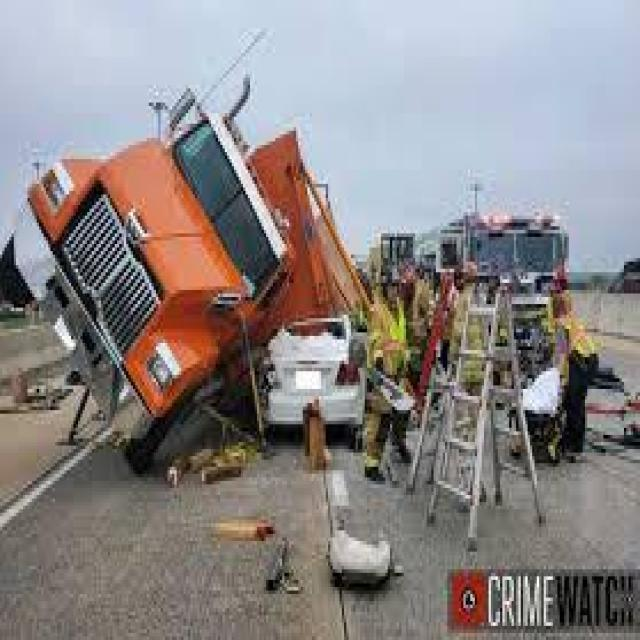severe: (2, 78, 374, 498)
